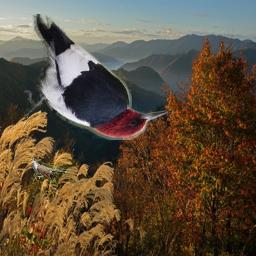Cuckoo: (31, 158, 67, 183)
Woodpecker: (24, 14, 174, 140)
